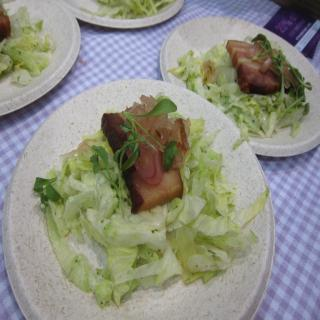Salad: (32, 90, 269, 314), (162, 35, 318, 146), (0, 0, 57, 89), (90, 0, 174, 17)
